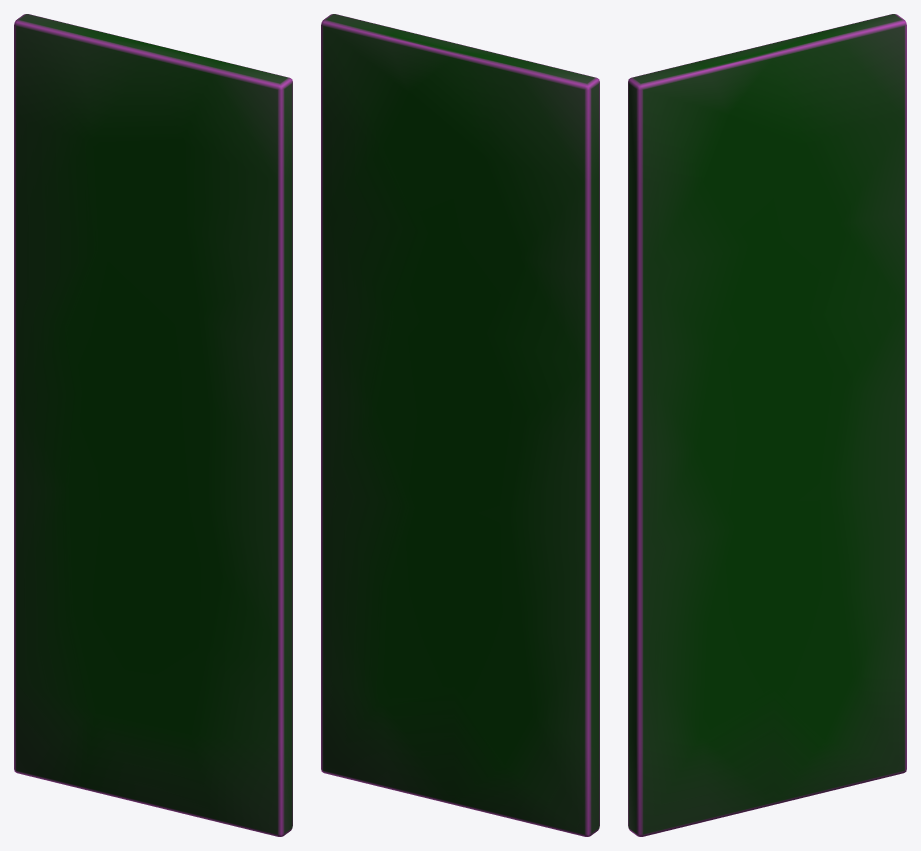
File: plank_01.fbx
3 renders of one model, left to right at view 1: azimuth 30°, elevation 25°; view 2: azimuth 210°, elevation 25°; view 3: azimuth 270°, elevation 25°, orthographic.
Visible parts, largest first — view 1: plank_01; view 2: plank_01; view 3: plank_01.
Boxes of the visible parts, left/top/right/bottom form: plank_01: left=14, top=14, right=292, bottom=836; plank_01: left=321, top=14, right=599, bottom=836; plank_01: left=628, top=14, right=906, bottom=836.
Size of the model in its own units: 0.1676 by 0.8 by 0.2683.
